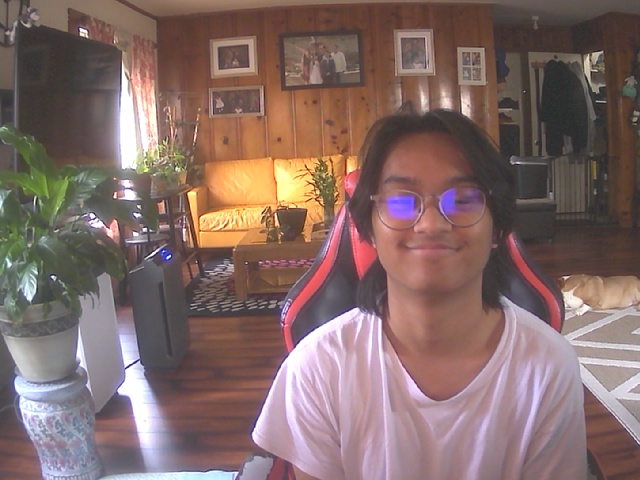happy: (367, 118, 503, 296)
